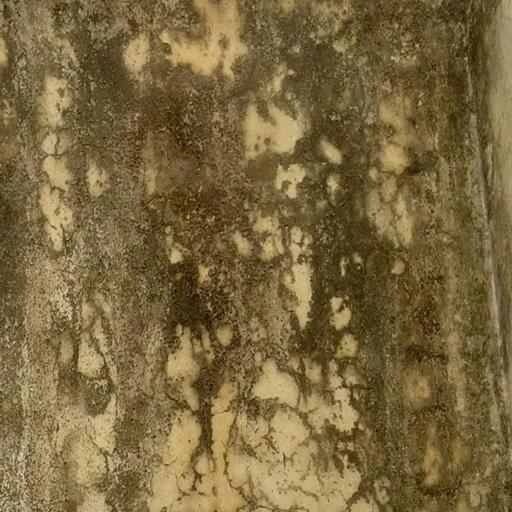algae: (7, 8, 512, 490)
